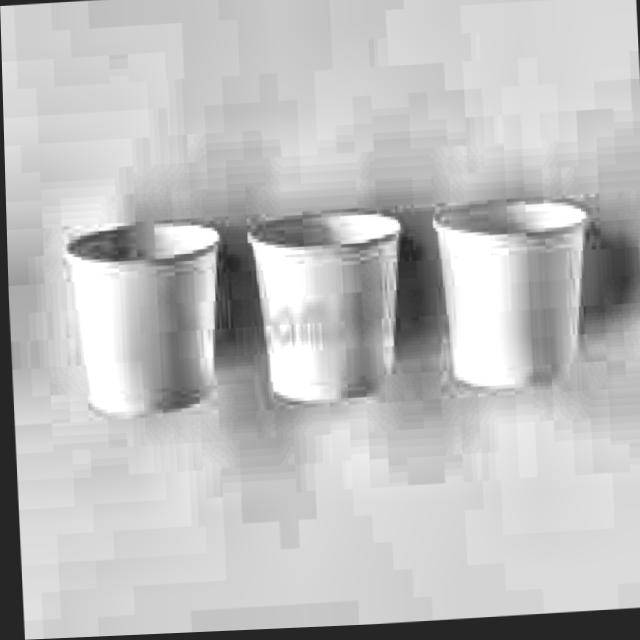Cup: (421, 189, 597, 435), (49, 199, 233, 431), (241, 193, 412, 420)
